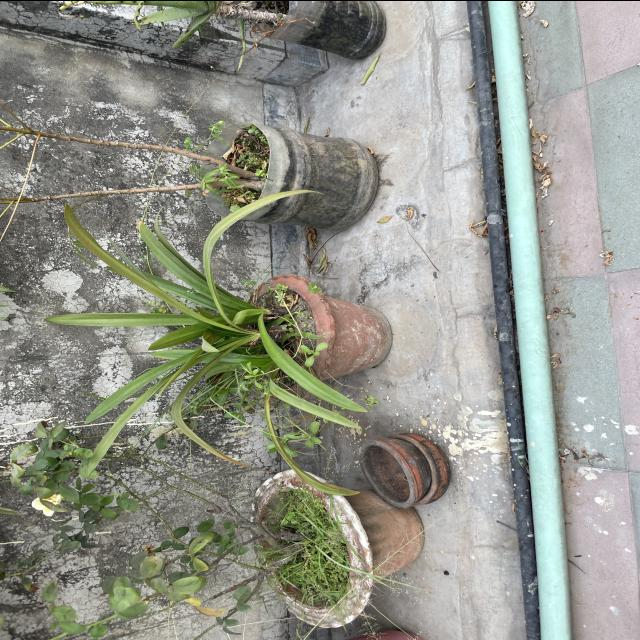Breeding Place: (256, 471, 421, 627), (203, 136, 379, 226), (248, 276, 388, 374), (250, 1, 384, 56), (368, 431, 448, 507)
